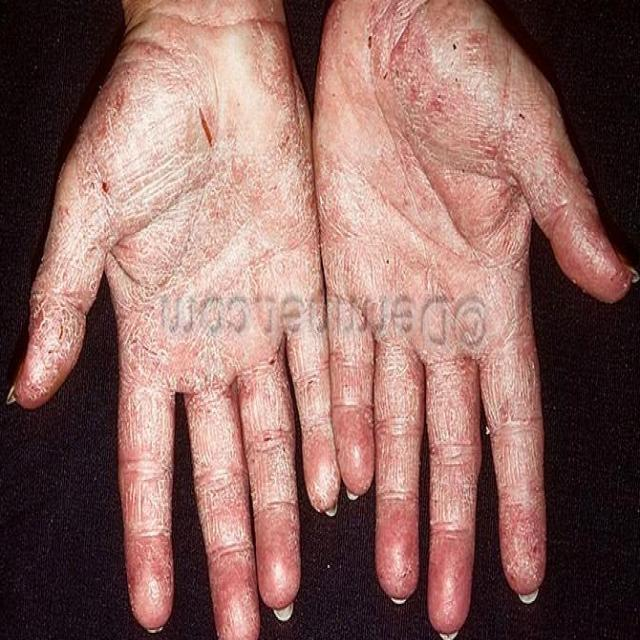Eczema: (42, 18, 304, 590), (312, 9, 564, 571)
